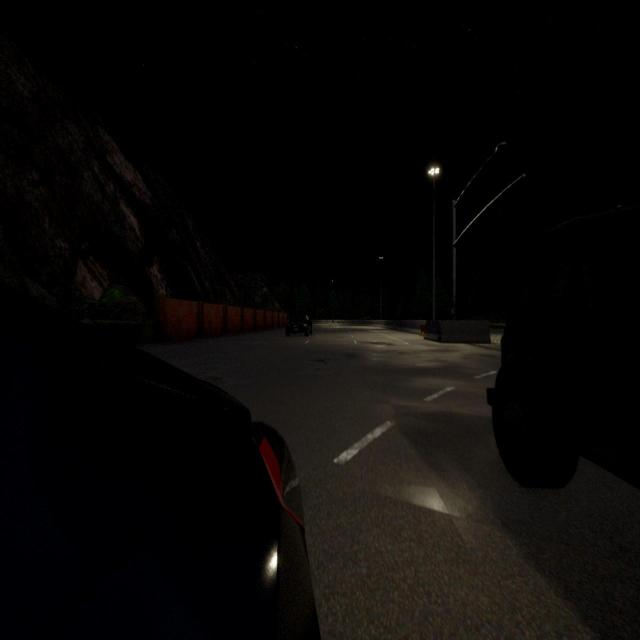Vehicle: (0, 303, 320, 640), (480, 188, 640, 494), (285, 314, 312, 337)
